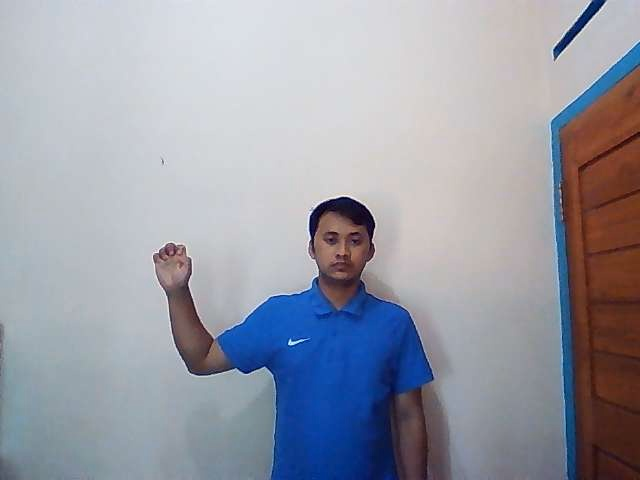E: (152, 242, 193, 292)
